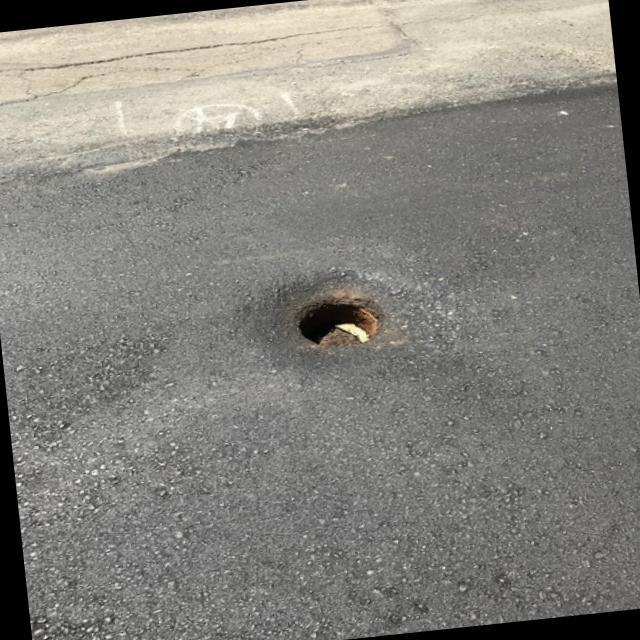Pothole: (265, 270, 412, 343)
